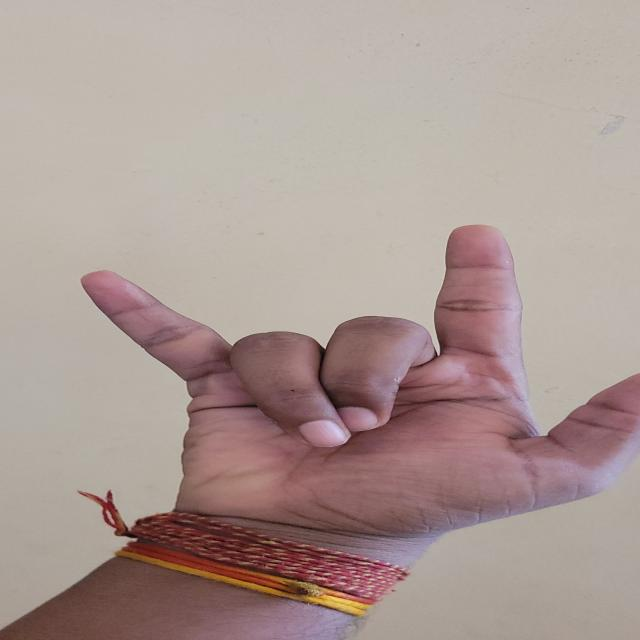i like you: (18, 212, 640, 631)
